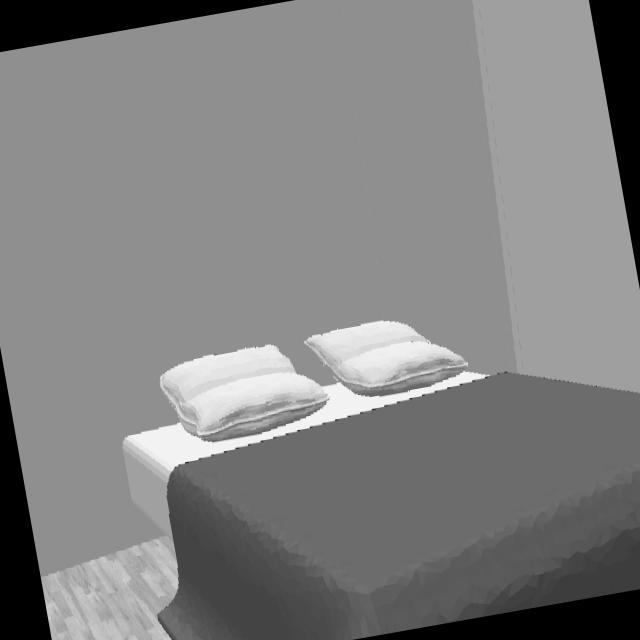bed: (121, 328, 640, 640)
pillow: (160, 346, 331, 445), (303, 320, 483, 401)
